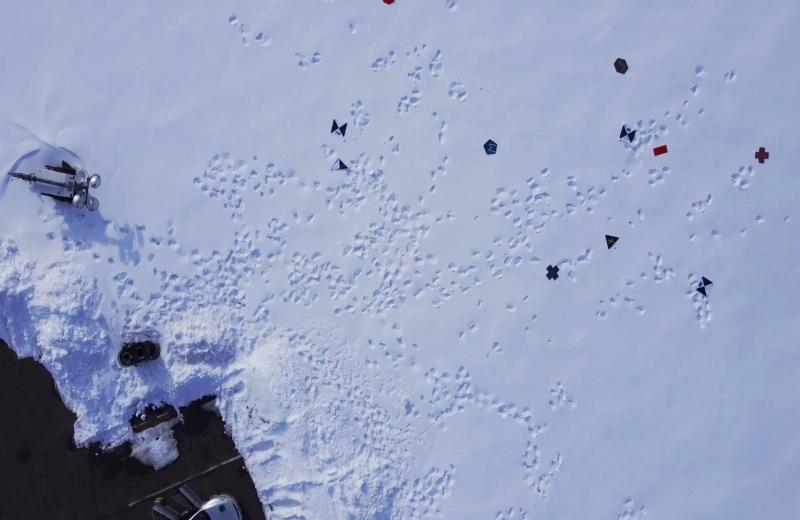Cross: (544, 263, 561, 281), (754, 147, 770, 165)
Hexagon: (614, 57, 630, 76)
Octagon: (378, 0, 400, 7)
Pentagon: (480, 137, 498, 158)
Rectangle: (652, 145, 670, 158)
Triangle: (604, 232, 620, 252)
